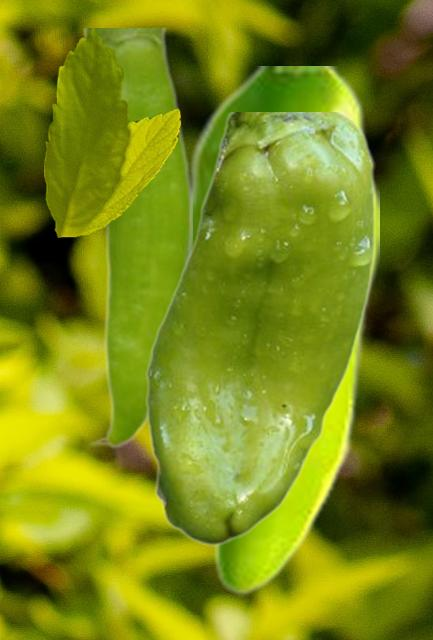green_chili: (187, 66, 378, 595), (145, 112, 374, 545), (82, 28, 191, 448)
